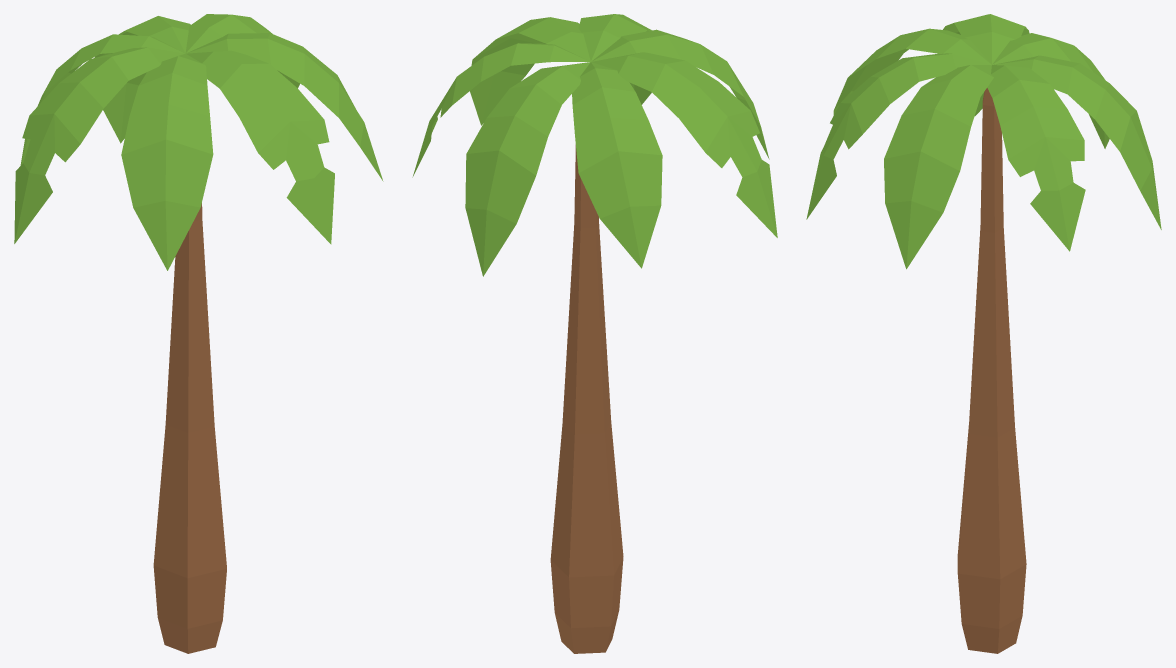
File: palm.glb
3 views of the same model, side by side, from view 1: azimuth 30°, elevation 25°; view 2: azimuth 150°, elevation 25°; view 3: azimuth 270°, elevation 25° (orthographic). The views are drawn at different scales.
Visible parts, largest first — view 1: palm; view 2: palm; view 3: palm.
Part boxes in pixels (left/top/right/bottom): palm: left=14, top=14, right=383, bottom=653; palm: left=412, top=14, right=777, bottom=653; palm: left=806, top=14, right=1161, bottom=653.
Bounding box in the file's own units: 3.58 × 6.19 × 3.37.
1 material, 1 textured.
